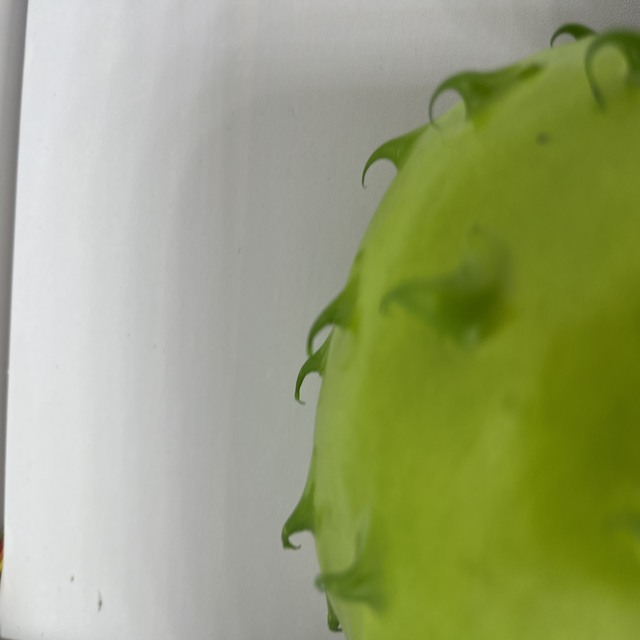Man cau: (276, 10, 640, 640)
